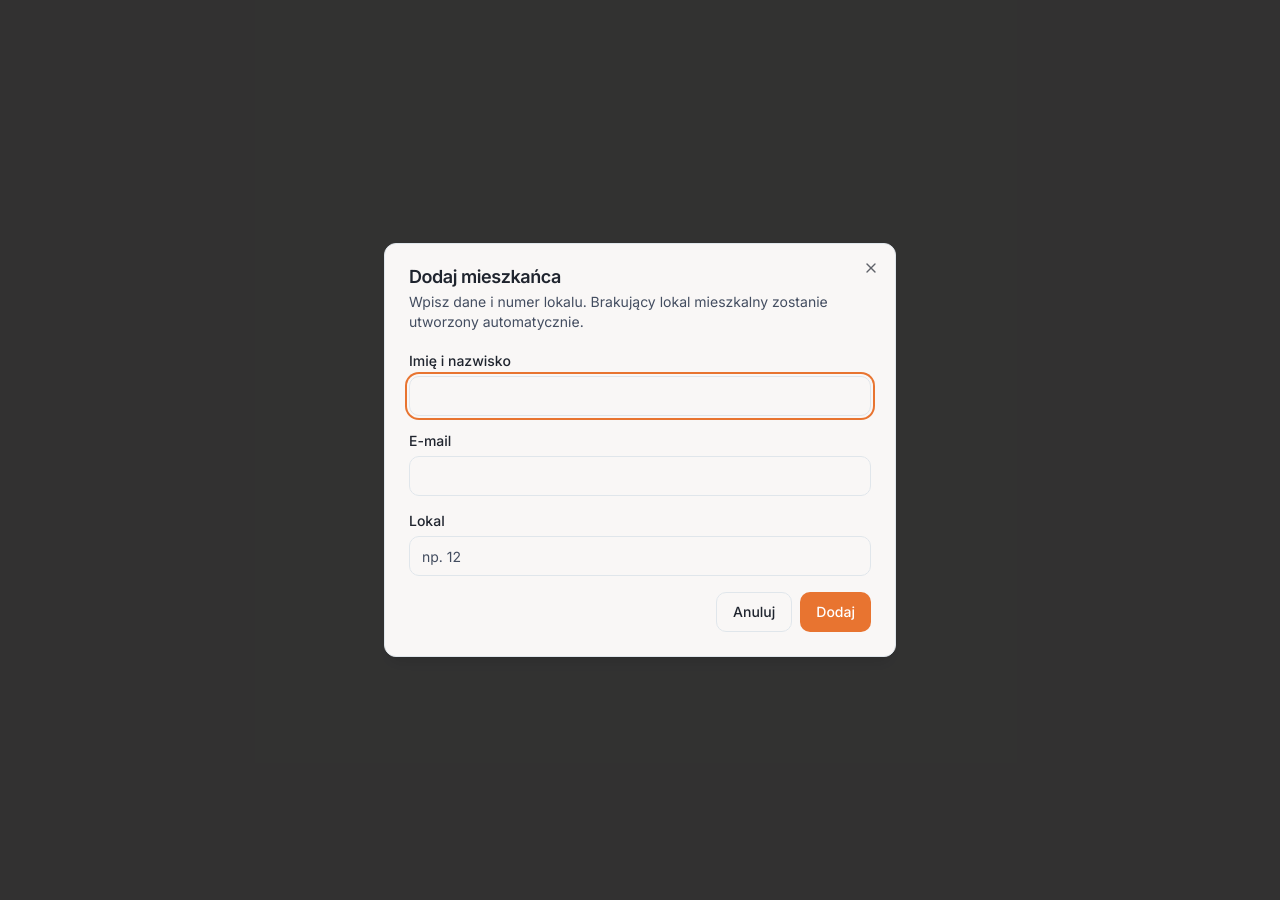
AddResidentDialog › shows that a missing unit will be created
In the field labelled "Imię i nazwisko": point(640, 396) x1=409 y1=376 x2=871 y2=416, type "Anna Nowak"
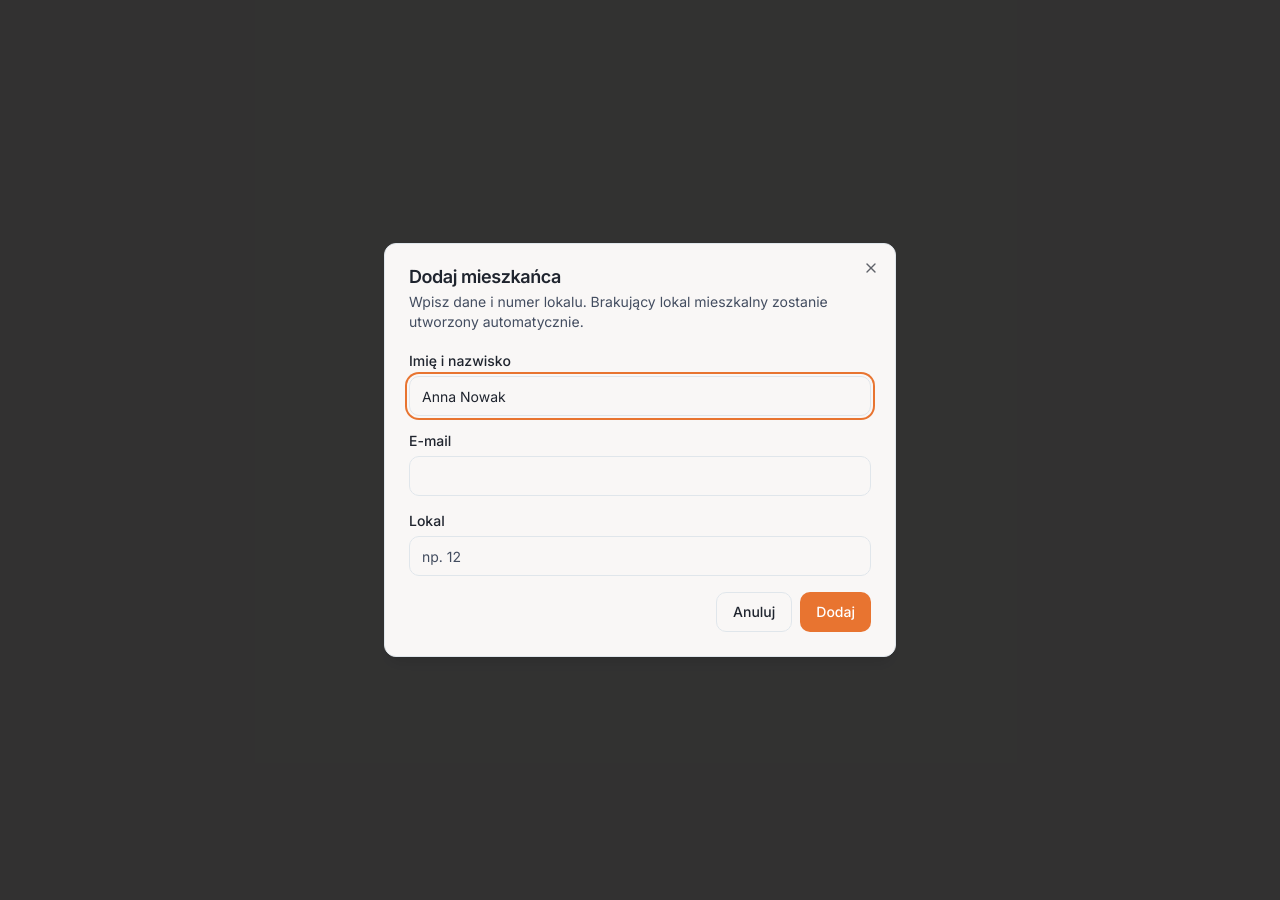
In the field labelled "E-mail": point(640, 476) x1=409 y1=456 x2=871 y2=496, type "anna@example.com"
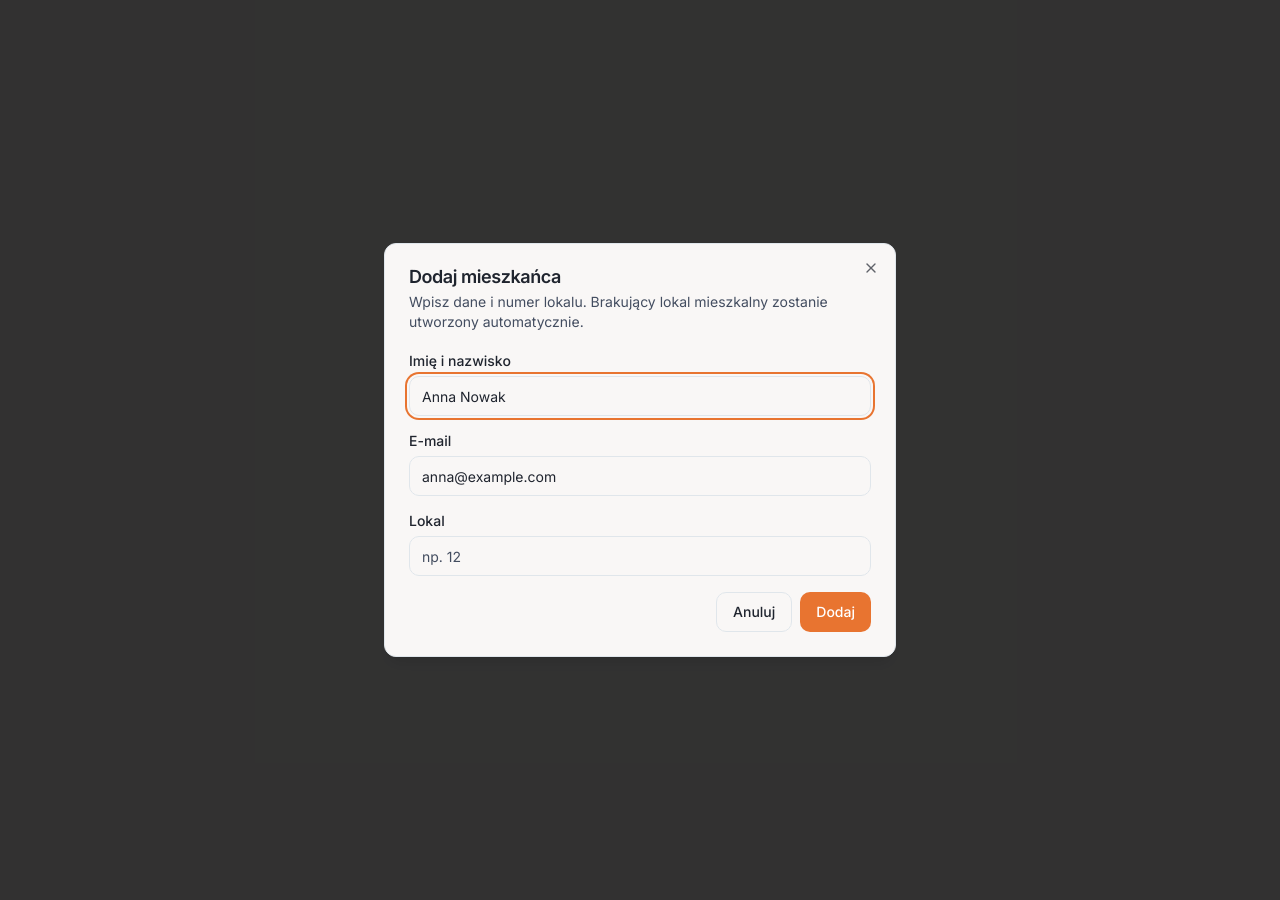
In the field labelled "Lokal": point(640, 556) x1=409 y1=536 x2=871 y2=576, type "7"
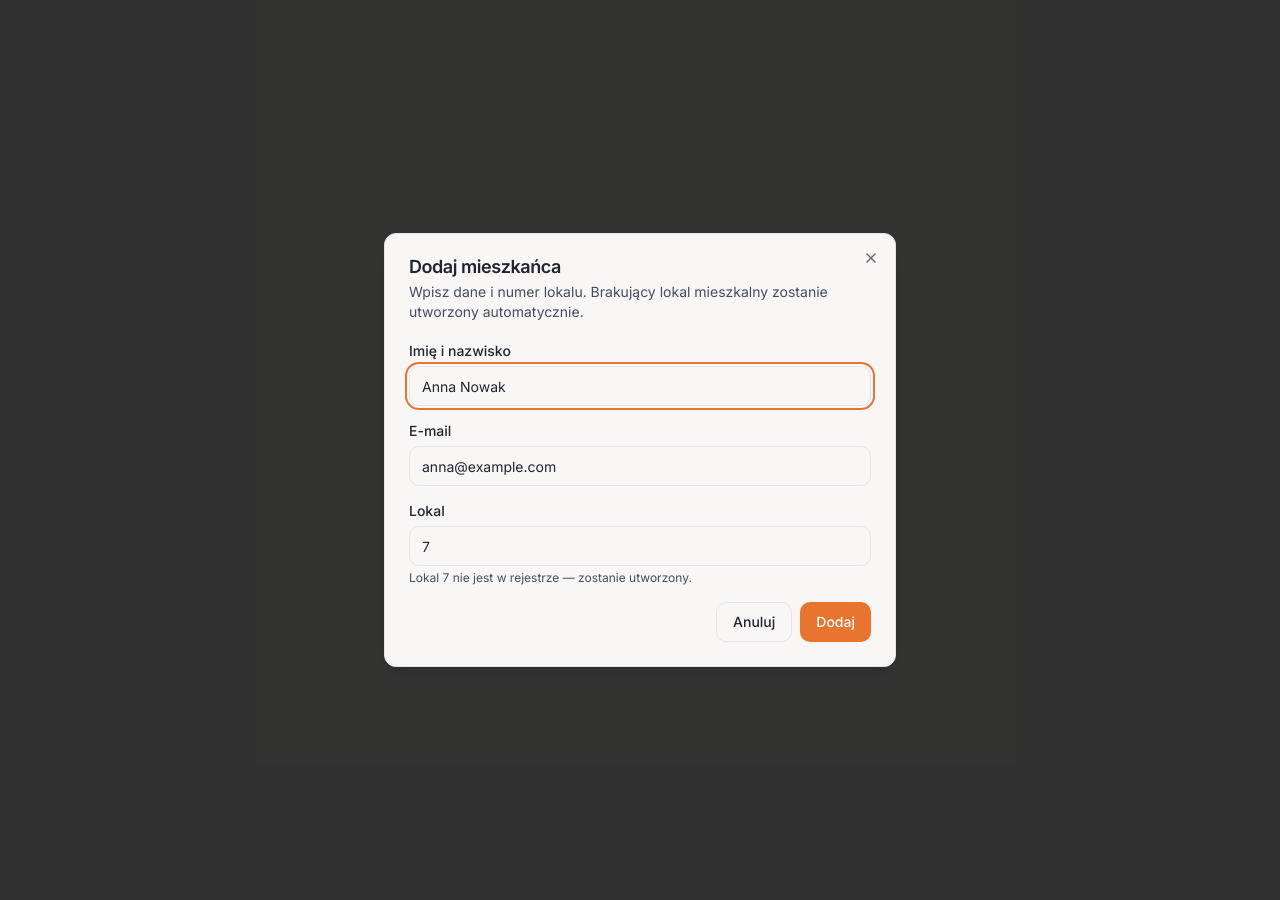
Expected: the text "Lokal 7 nie jest w rejestrze — zostanie utworzony." is shown, x1=409 y1=570 x2=692 y2=585
